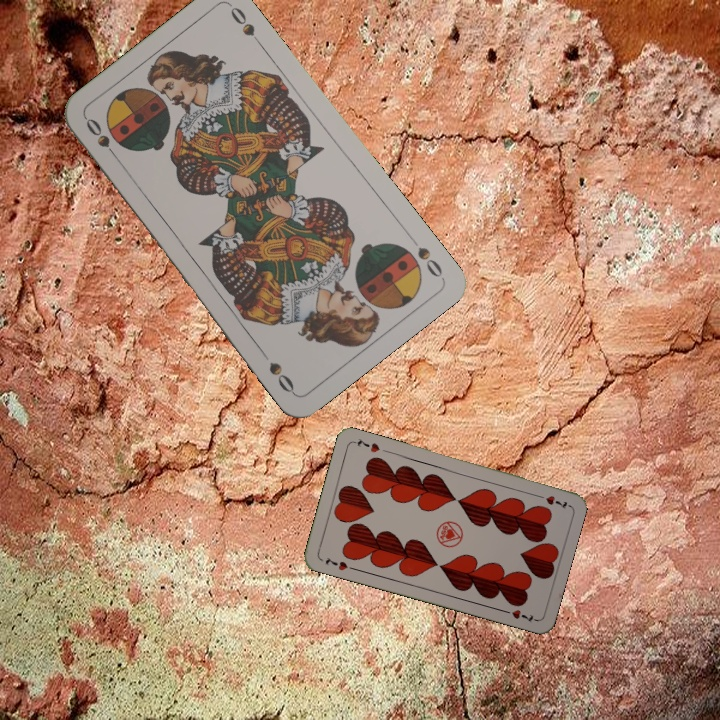H7: (532, 491, 571, 511), (321, 554, 358, 573)
SO: (81, 113, 123, 165), (413, 243, 445, 281)
